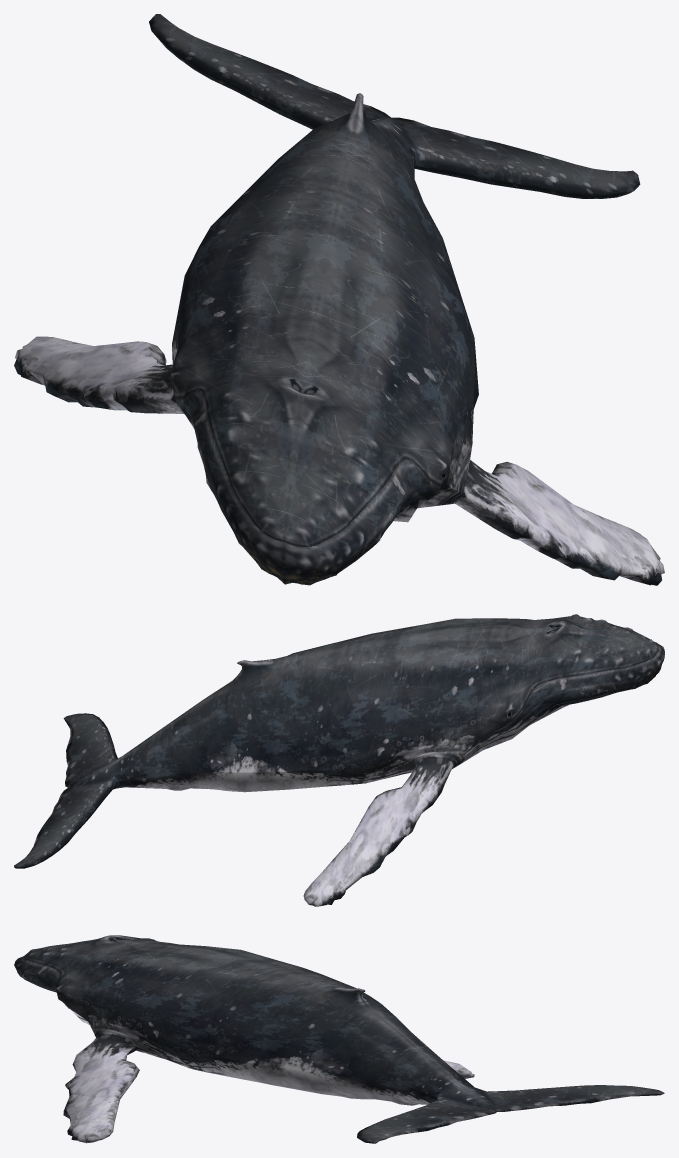
The model's file is baleia_v2.glb.
3 views of the same model, one above another, from view 1: azimuth 30°, elevation 25°; view 2: azimuth 150°, elevation 25°; view 3: azimuth 270°, elevation 25° (orthographic). The views are drawn at different scales.
Visible parts, largest first — view 1: Object_34; view 2: Object_34; view 3: Object_34.
Boxes of the visible parts, x1=… form: Object_34: x1=14, y1=14, x2=664, y2=585; Object_34: x1=14, y1=614, x2=664, y2=906; Object_34: x1=14, y1=935, x2=664, y2=1143.
Size of the model in its own units: 5 by 2 by 7.9.
1 material, 1 textured.
